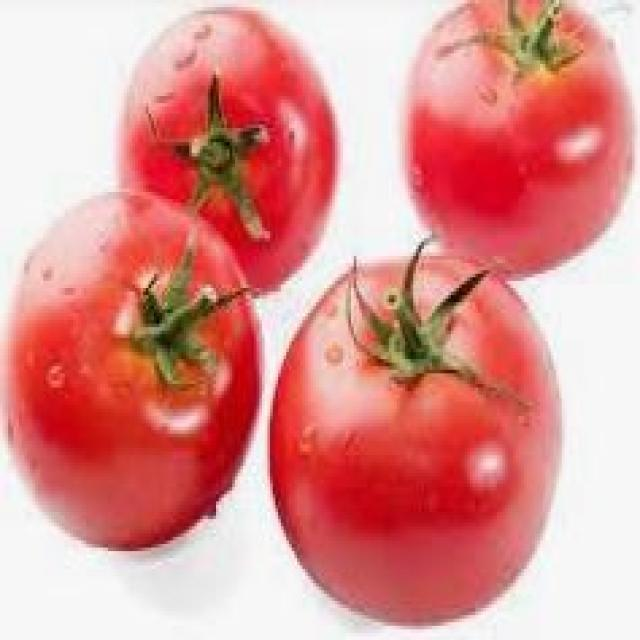Healthy: (268, 242, 556, 640), (5, 172, 265, 560), (111, 1, 350, 302), (401, 0, 634, 282)
